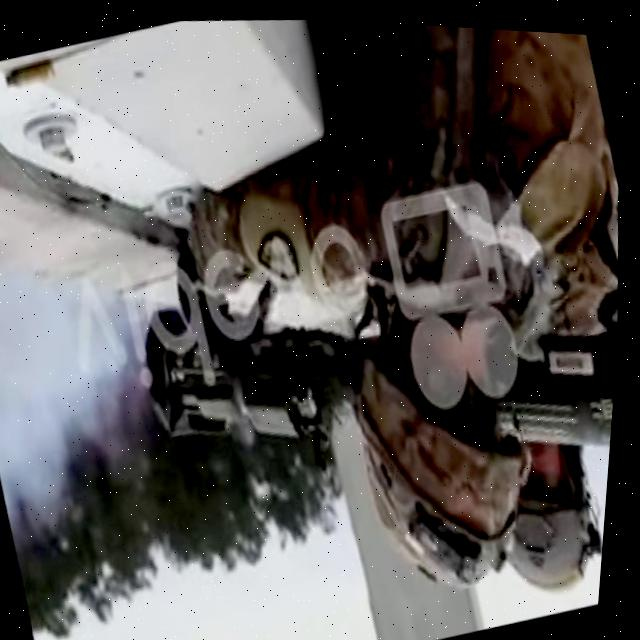rocket: (121, 206, 628, 574)
